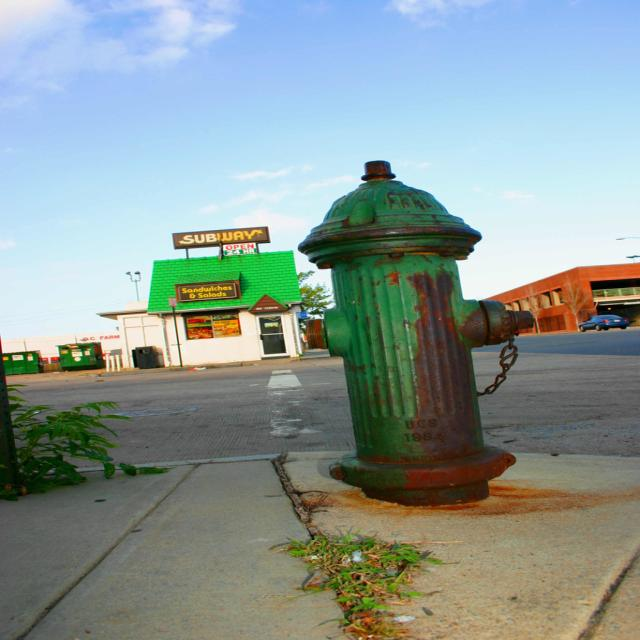fire_hydrant: (296, 155, 536, 510)
